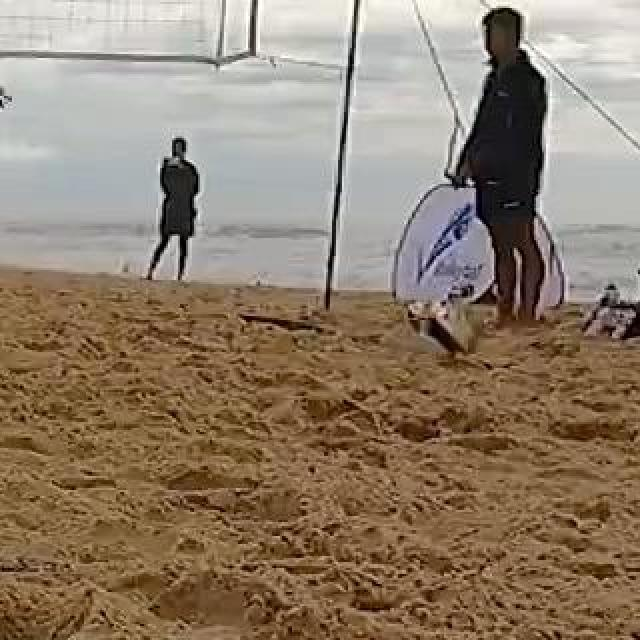volleyball: (419, 307, 475, 363)
